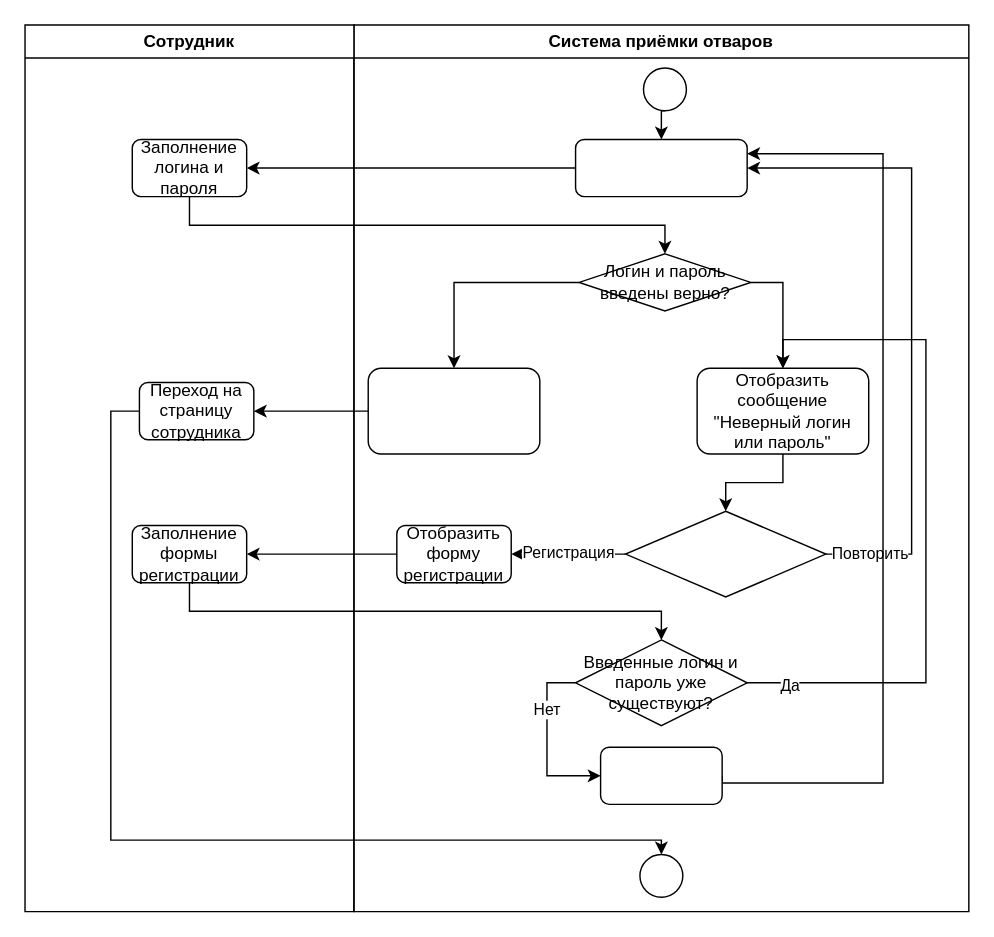
This 994x937 diagram has some shape labels left out. Each missing label, with the centre of its shape:
Отображение сообщения "Авторизация успешна": the point at 453,410
Отобразить поля для ввода логина и пароля: the point at 660,167
Повторить попытку/Регистрация аккаунта: the point at 725,553
Регистрация пользователя в системе: the point at 660,775
